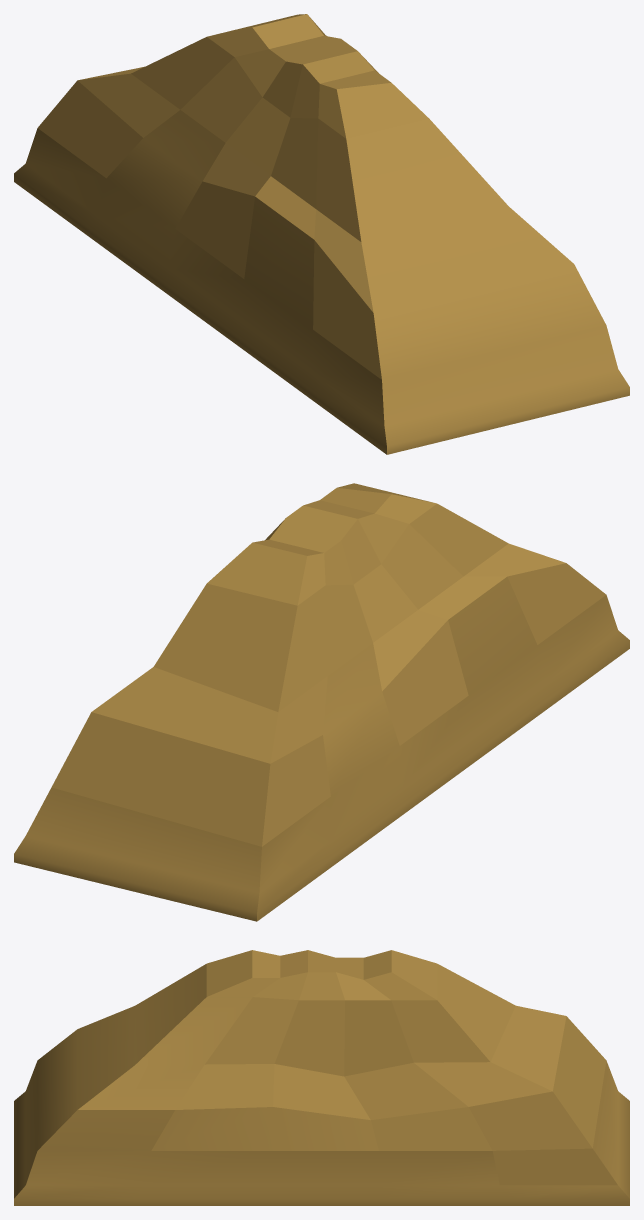
Rendered from Mountain 1.fbx.
3 renders of one model, top to bottom at view 1: azimuth 30°, elevation 25°; view 2: azimuth 150°, elevation 25°; view 3: azimuth 270°, elevation 25°, orthographic. The views are drawn at different scales.
Visible parts, largest first — view 1: Cube; view 2: Cube; view 3: Cube.
Boxes of the visible parts, left/top/right/bottom form: Cube: left=14, top=14, right=629, bottom=454; Cube: left=14, top=483, right=629, bottom=921; Cube: left=14, top=950, right=629, bottom=1205.
Size of the model in its own units: 12214 by 11389 by 32464.
